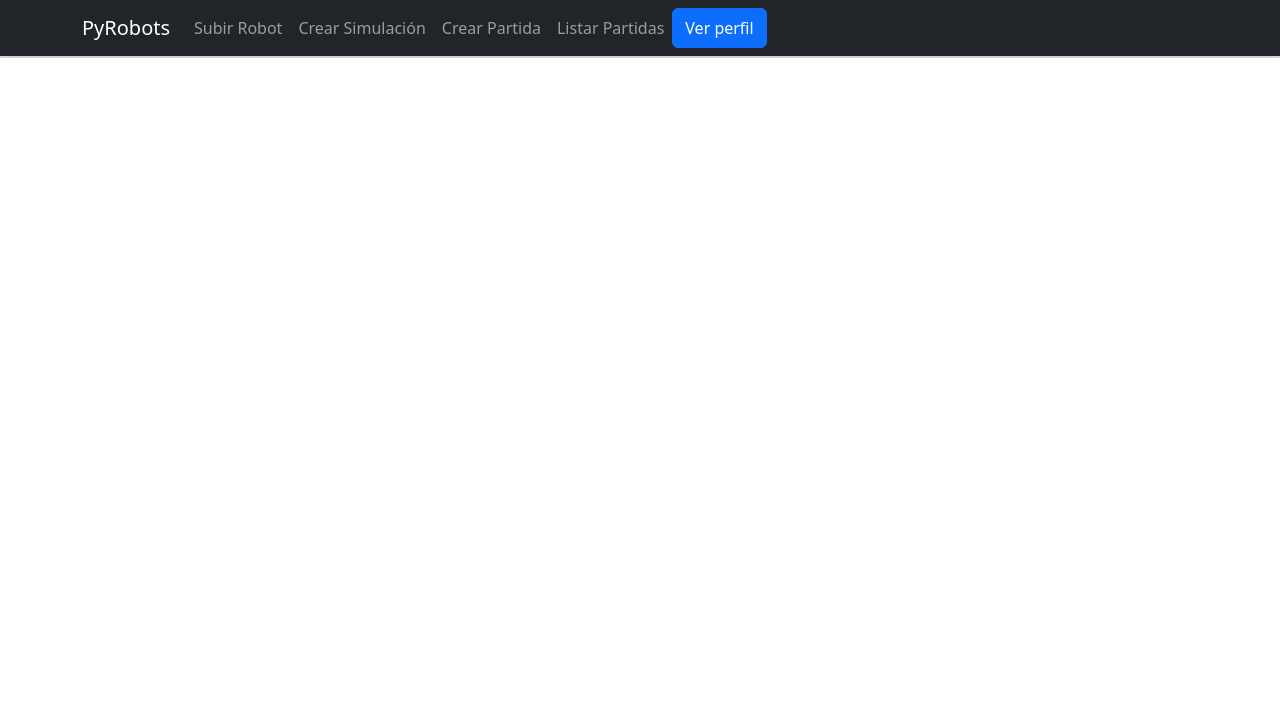
Scenario: Tests componente NavBar_2 › Modal cambiar avatar
This screenshot has width=1280, height=720.
Click the button "Ver perfil": coordinates (719, 28) [672, 8, 767, 48]
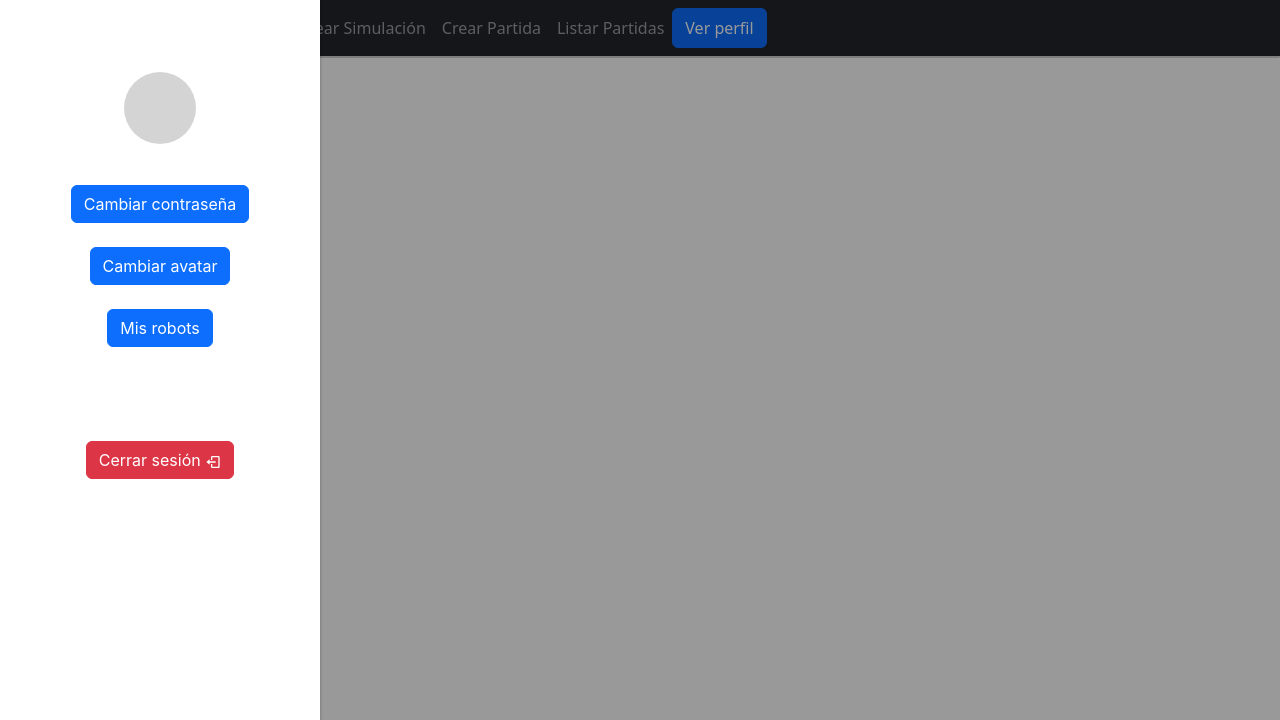
Result: the button "Cambiar avatar" is shown
Click the button "Cambiar avatar": coordinates (160, 266) [90, 247, 230, 285]
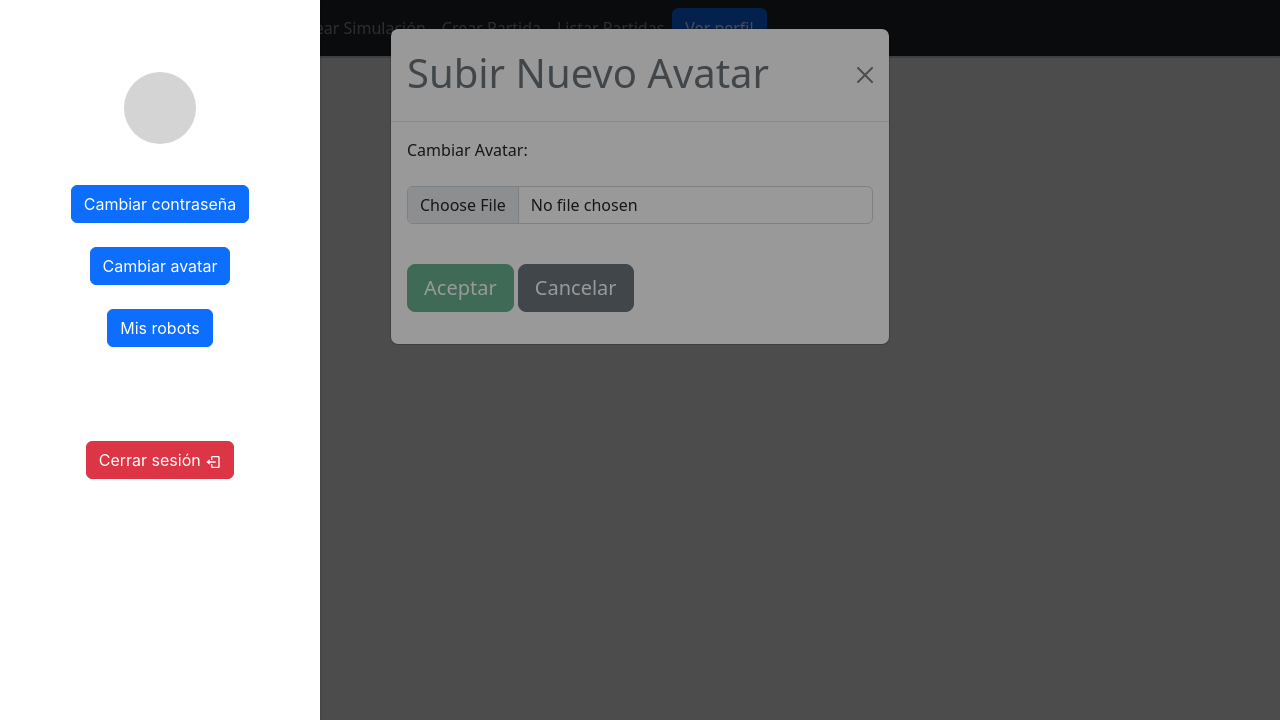
Result: the text "Cambiar Avatar:" is shown at [407, 138, 528, 162]
Result: the button "Cancelar" is shown at [518, 264, 634, 312]
